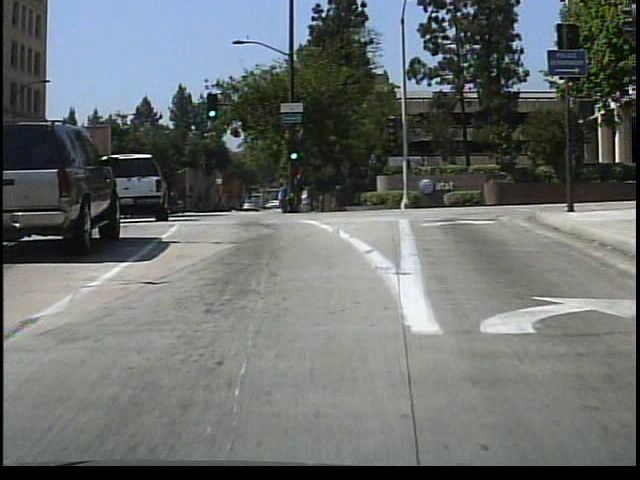person: (274, 174, 294, 216), (297, 181, 317, 217)
